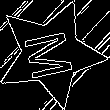M_E: (20, 25, 82, 82)
